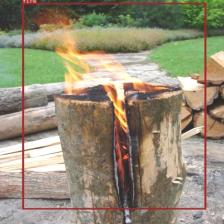fire: (21, 3, 206, 209)
